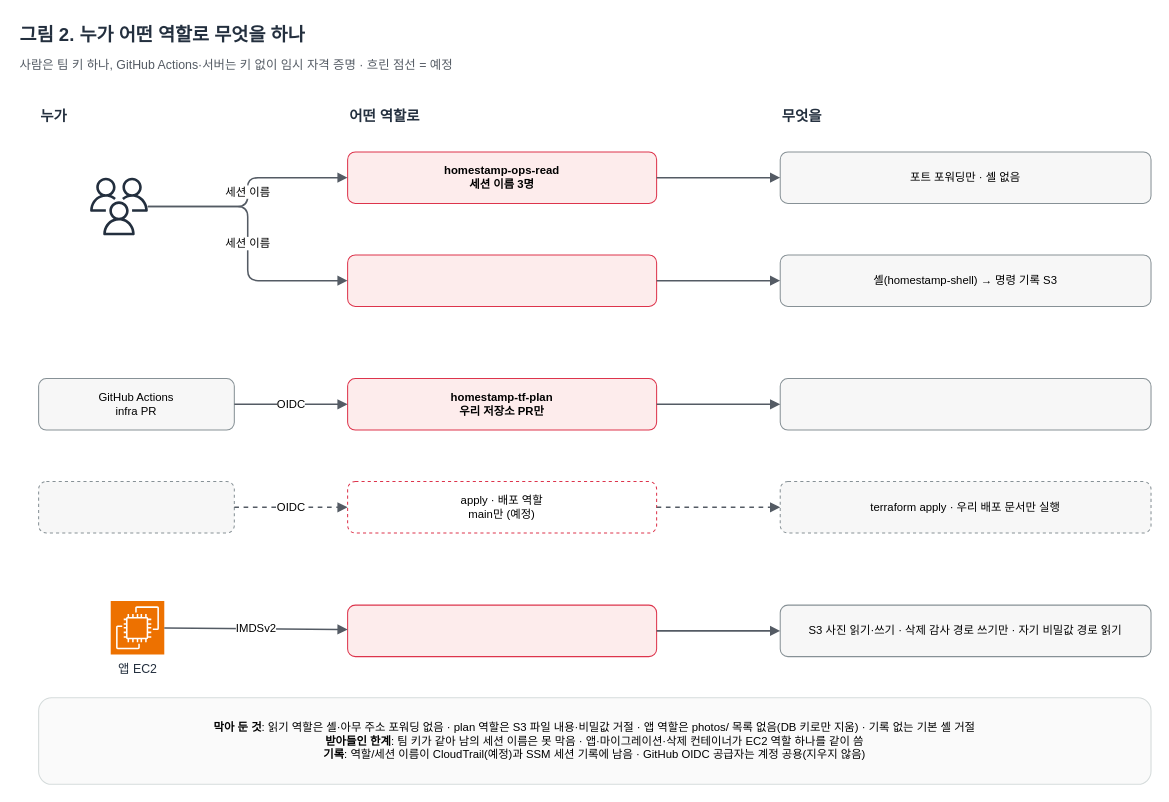
Image size: 1169x802. Some labels were removed from this diagram. Here are the shapes that lost their labels. From the top down, the centre of each, then its label:
At pixel 118 206: "팀원 4명 (팀 키 하나)".
At pixel 502 280: "homestamp-ops-admin 세션 이름 1명(운영 담당)".
At pixel 965 403: "terraform plan 상태 읽기 · 잠금 파일만 쓰기".
At pixel 136 506: "GitHub Actions main 병합".
At pixel 502 630: "homestamp-web-role EC2 서비스만".
